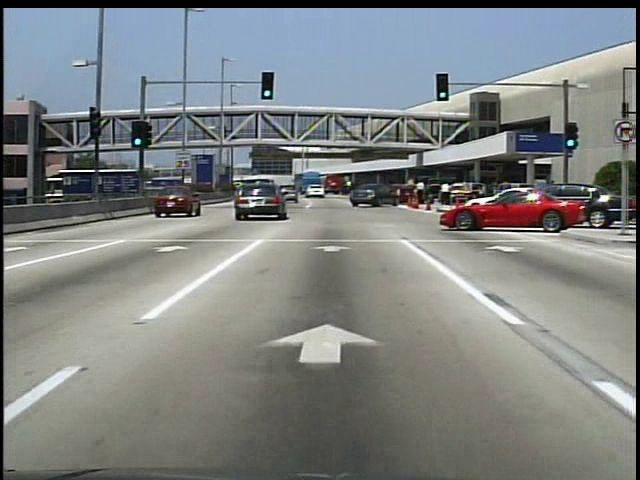person: (414, 177, 430, 210), (440, 185, 455, 211), (221, 128, 229, 144)
